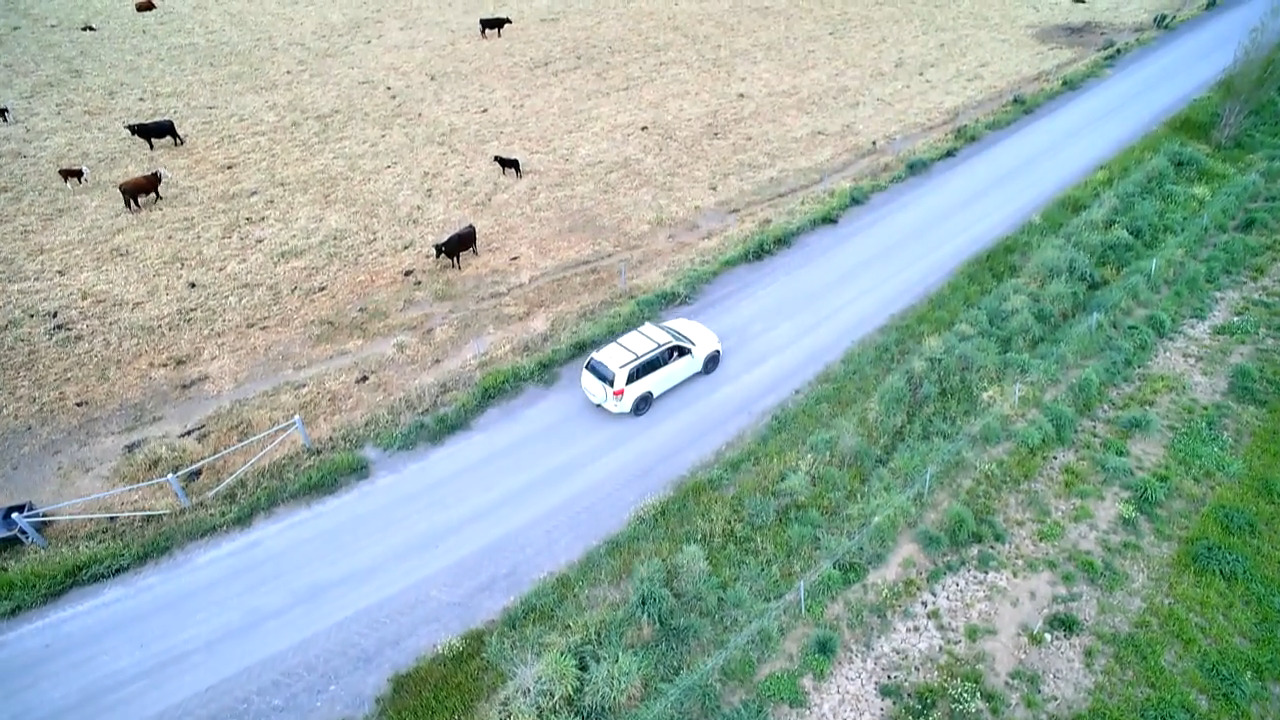Car: (580, 318, 722, 416)
